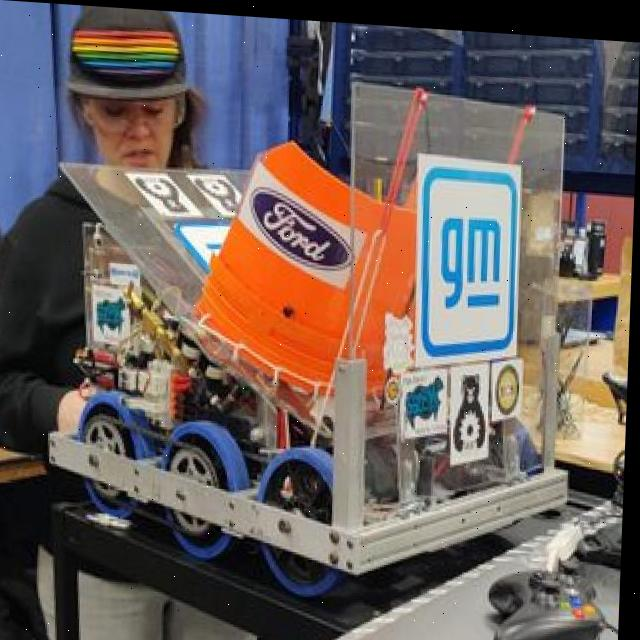robot: (21, 49, 589, 612)
